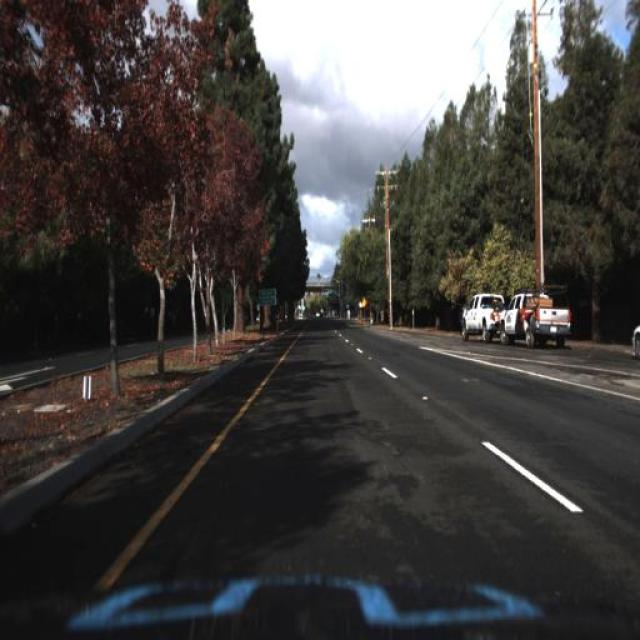car: (497, 283, 571, 346), (458, 289, 497, 349)
